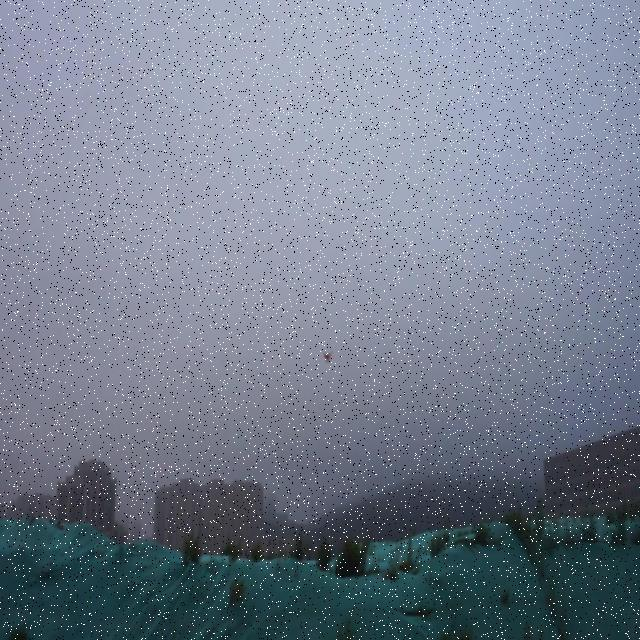UAV: (323, 351, 332, 364)
